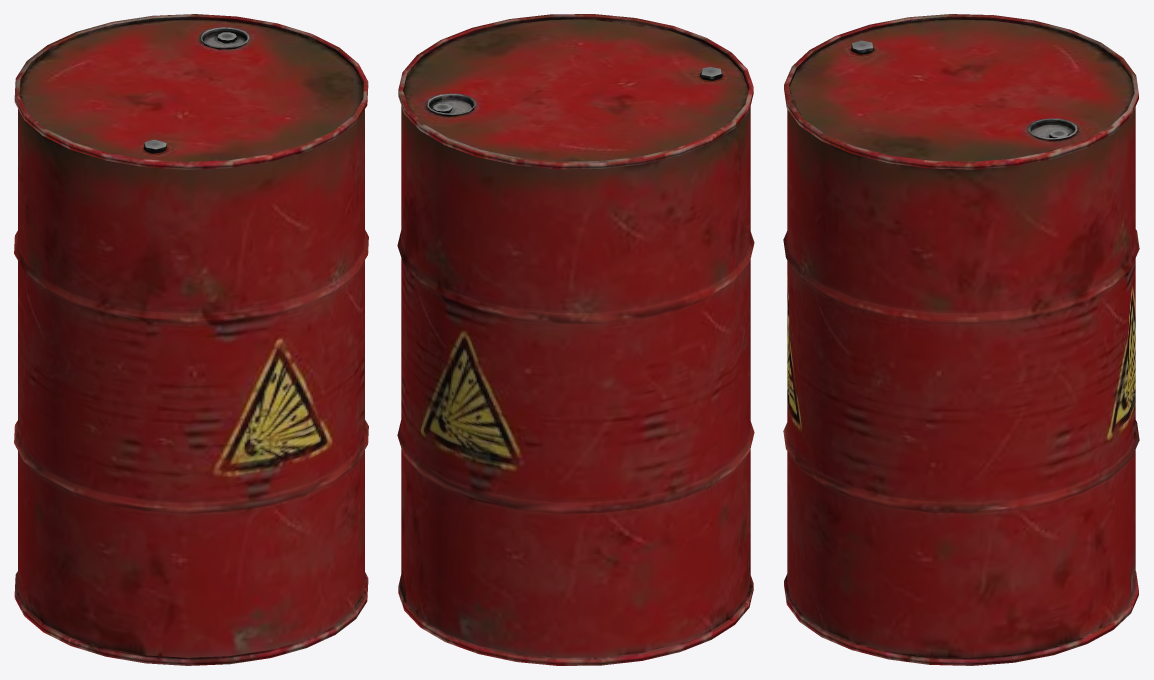
Rendered from Barrel_01.glb.
3 renders of one model, left to right at view 1: azimuth 30°, elevation 25°; view 2: azimuth 150°, elevation 25°; view 3: azimuth 270°, elevation 25°, orthographic.
Parts seen in each view (by area): view 1: Barrel_01; view 2: Barrel_01; view 3: Barrel_01.
Boxes of the visible parts, <box> form: Barrel_01: <box>14,14,368,665</box>; Barrel_01: <box>397,14,754,665</box>; Barrel_01: <box>783,14,1139,665</box>.
Bounding box in the file's own units: 0.5628 × 0.8789 × 0.5628.
Materials: 1 (1 with a texture image).
